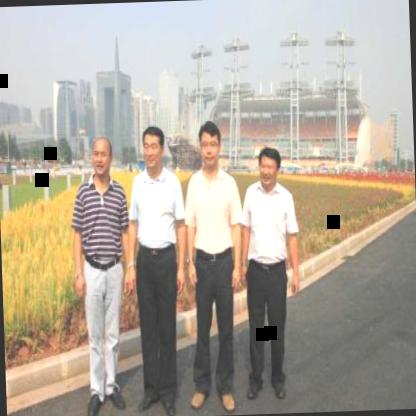head: (196, 118, 226, 173), (137, 122, 169, 172), (86, 131, 116, 182), (254, 145, 284, 188)
